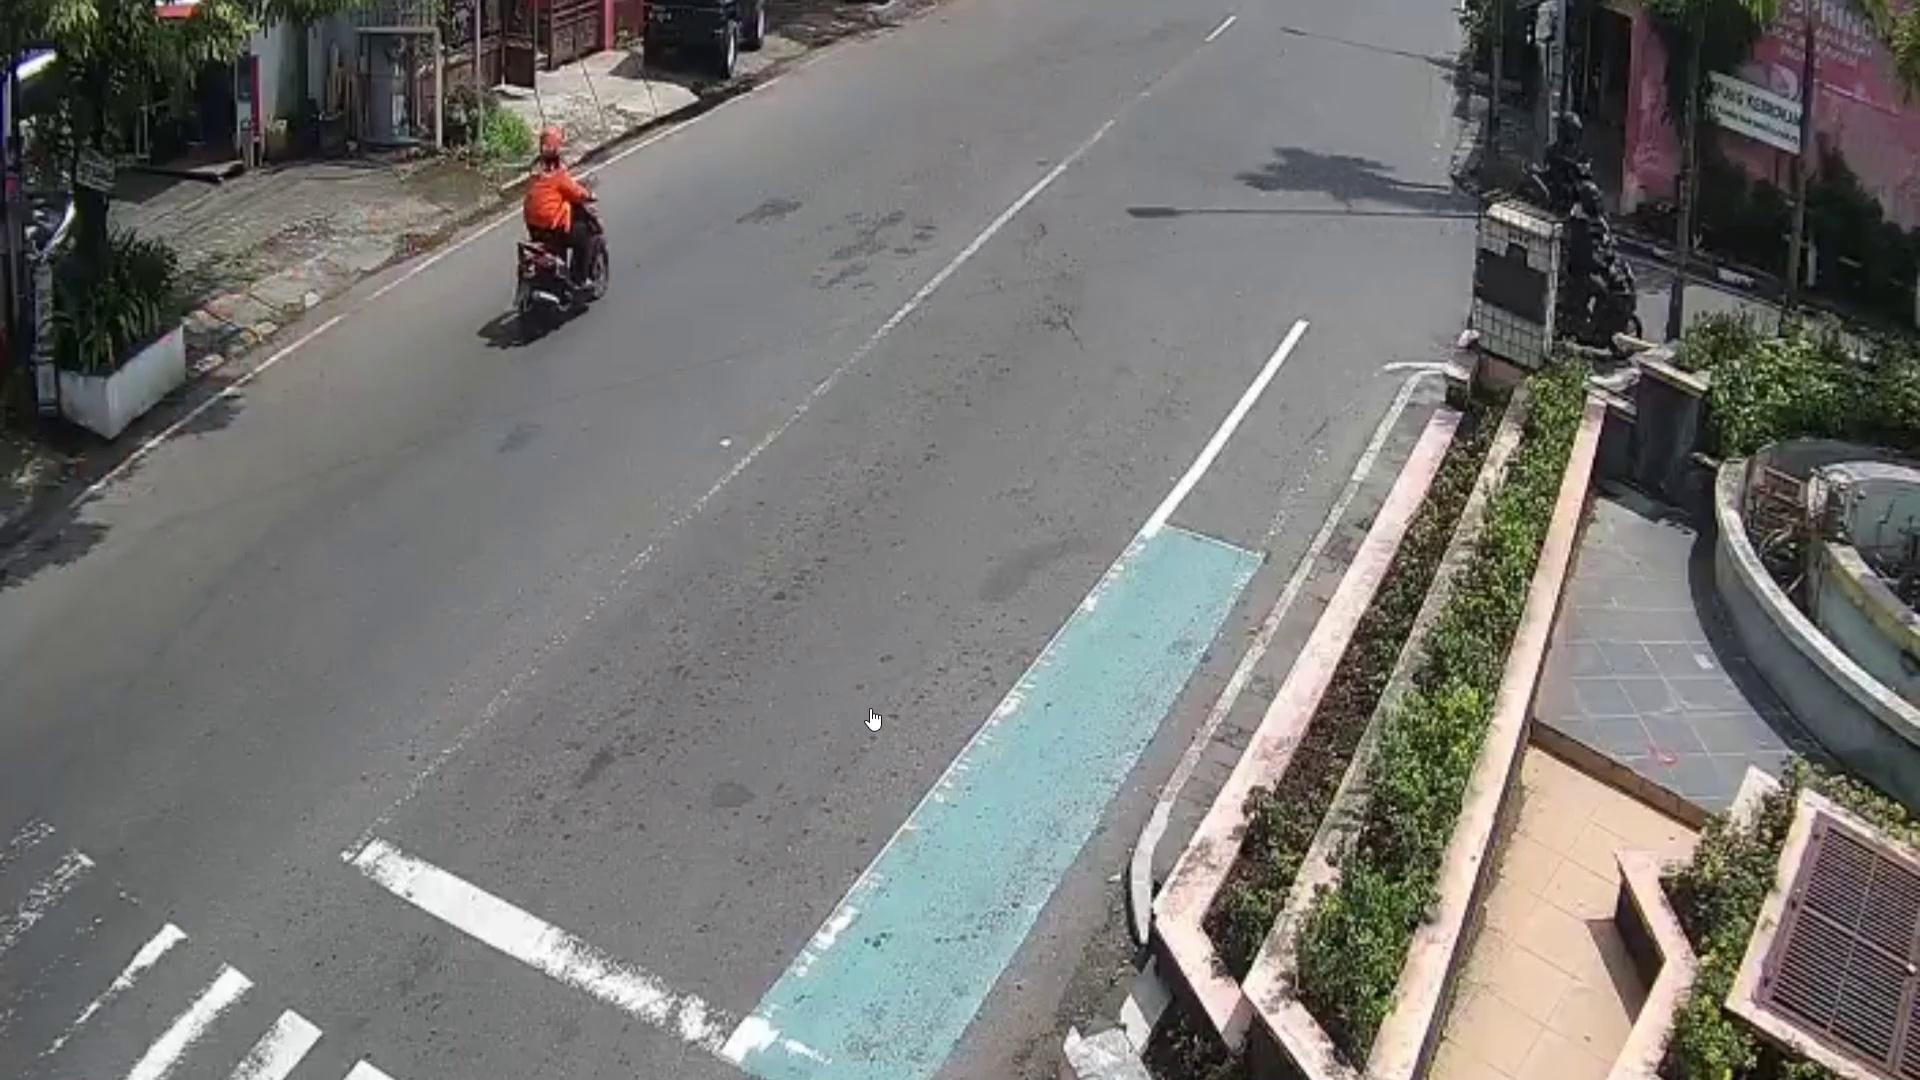motorbike: (509, 178, 617, 328), (1564, 248, 1647, 364)
